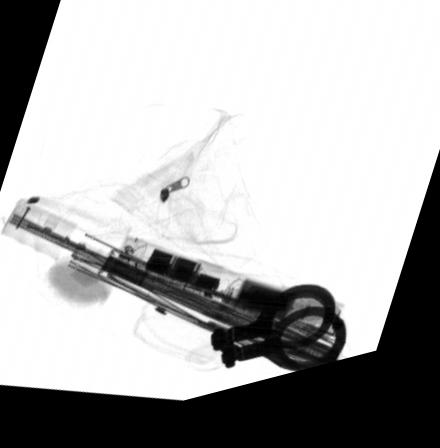Baton: (111, 241, 345, 362)
HandCuffs: (209, 297, 348, 387)
